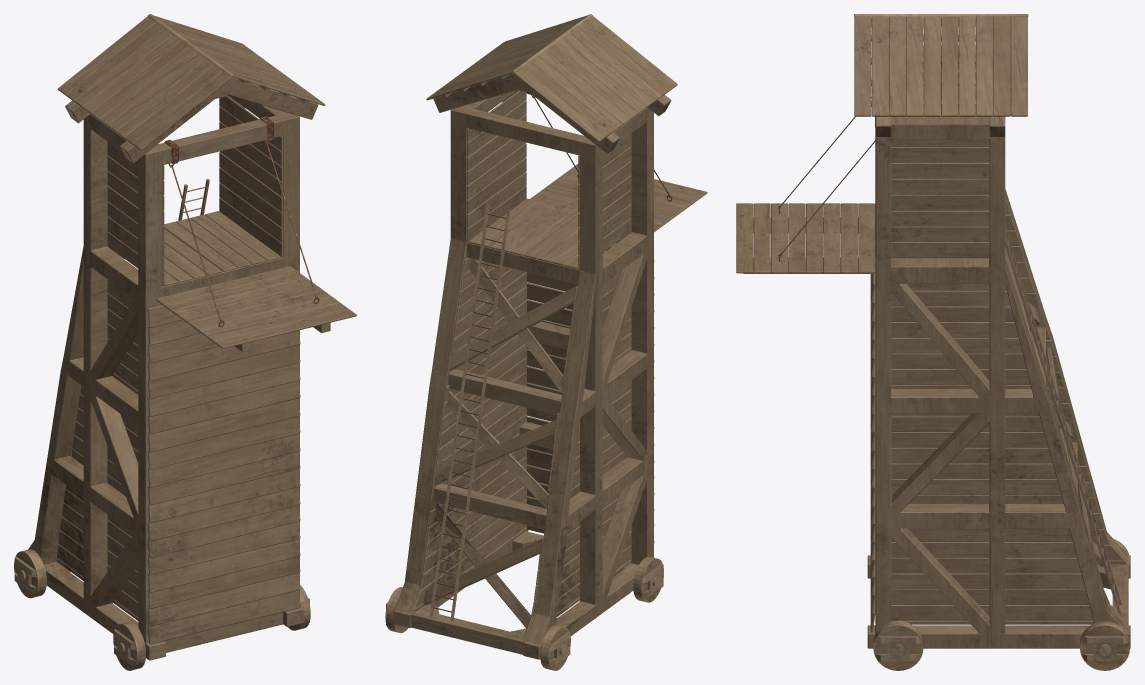
File: Siege_Tower.fbx
The picture shows the model from 3 angles, left to right: view 1: azimuth 30°, elevation 25°; view 2: azimuth 150°, elevation 25°; view 3: azimuth 270°, elevation 25°; orthographic projection. The views are drawn at different scales.
Parts seen in each view (by area): view 1: Siege Tower; view 2: Siege Tower; view 3: Siege Tower.
Part boxes in pixels (x1=…): Siege Tower: x1=14, y1=14, x2=356, y2=670; Siege Tower: x1=385, y1=14, x2=707, y2=670; Siege Tower: x1=736, y1=14, x2=1130, y2=670.
Size of the model in its own units: 558 by 1638 by 956.
3 materials, 3 textured.
